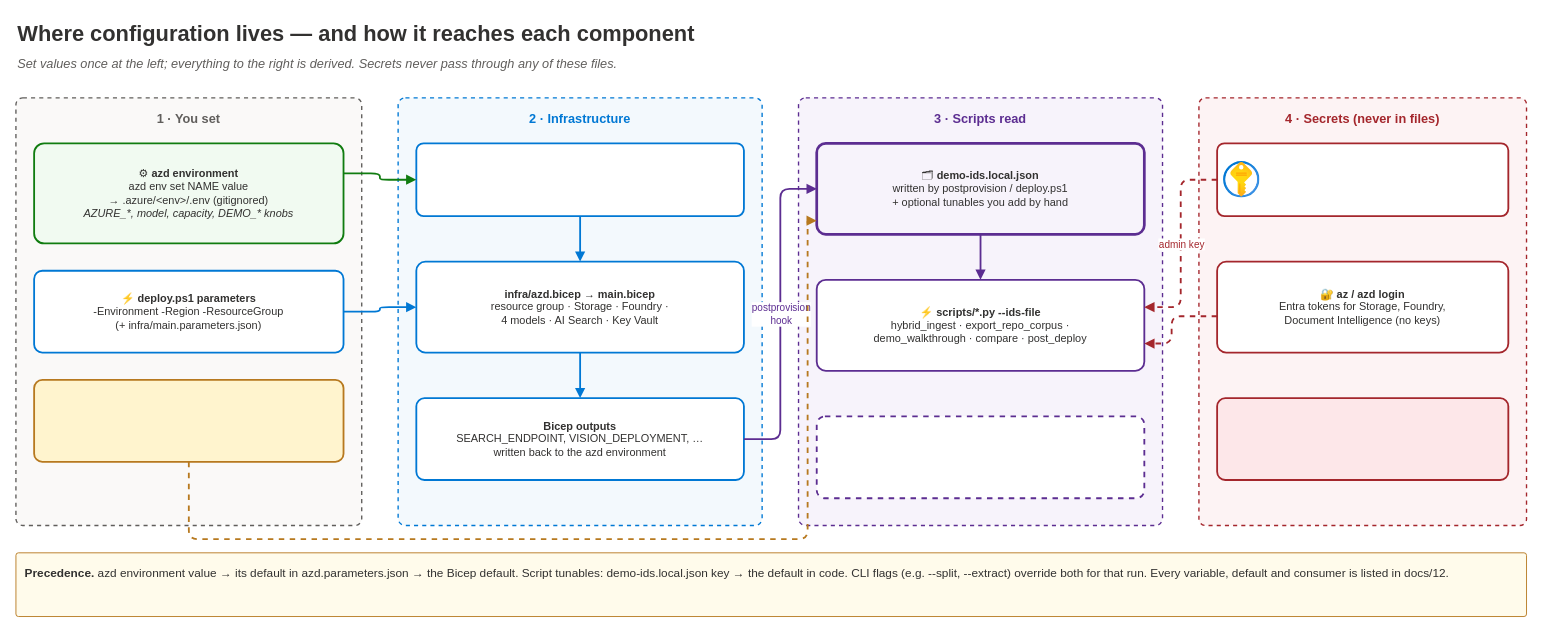
Image size: 1543x632. Some labels were removed from this diagram. Here are the shapes that lost their labels. From the top down, the centre of each, then its label:
(x=579, y=179): infra/azd.parameters.json ${VAR=default} substitution
(x=1362, y=179): Key Vault search-admin-key
(x=188, y=420): 📚 corpus block in demo-ids.local.json — the ONLY corpus-specific settings
(x=1362, y=438): Never keys in .env, demo-ids, azure.yaml or committed files
(x=980, y=457): Fallback MCP server Container App env vars SEARCH_*, MCP_TOOL_*
